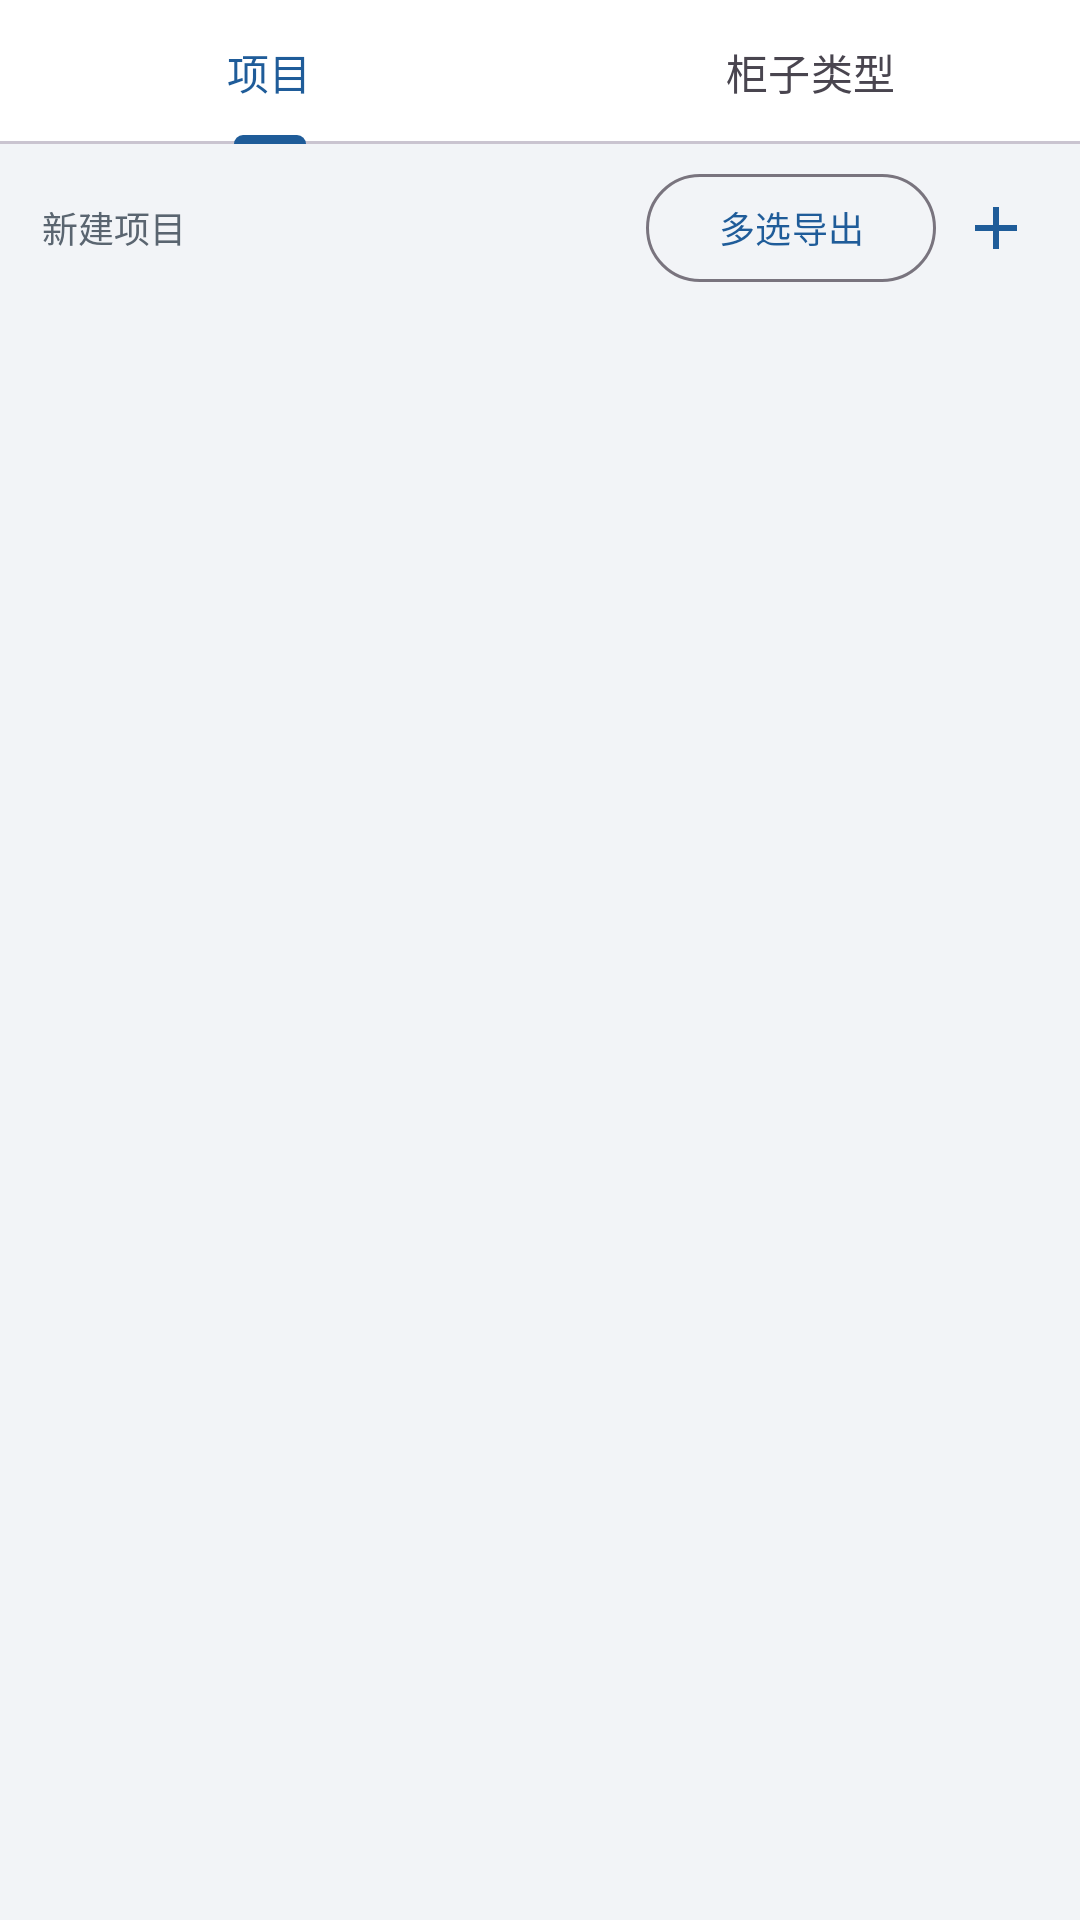

Point at icon controls on the screen. Image size 1080w x 1920h, points as (x,y).
添加: (996,228)
